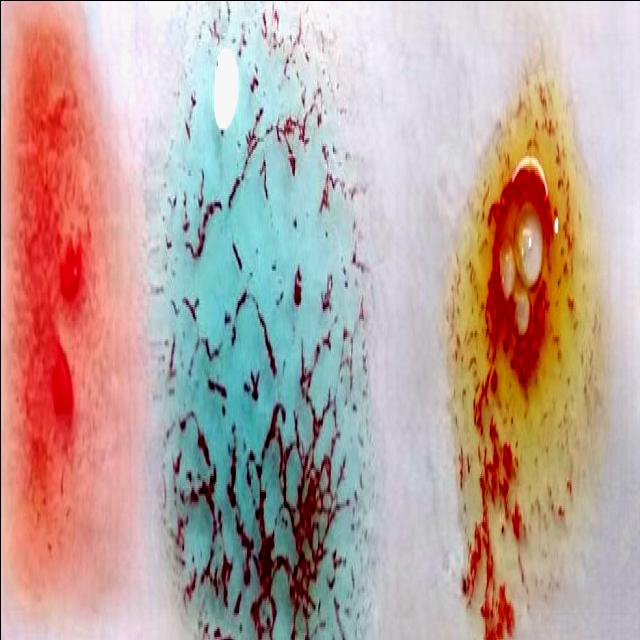A: (165, 24, 358, 640)
B: (457, 80, 602, 636)
D: (10, 34, 112, 640)
